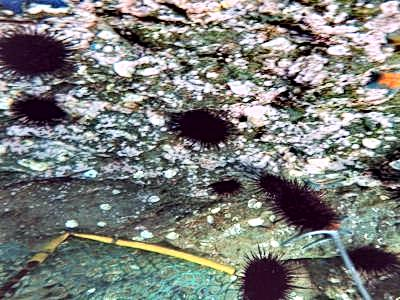urchin: (261, 173, 335, 233), (4, 32, 64, 75), (241, 252, 289, 294), (180, 111, 221, 144), (348, 246, 390, 273), (18, 97, 61, 122), (213, 179, 239, 191)
